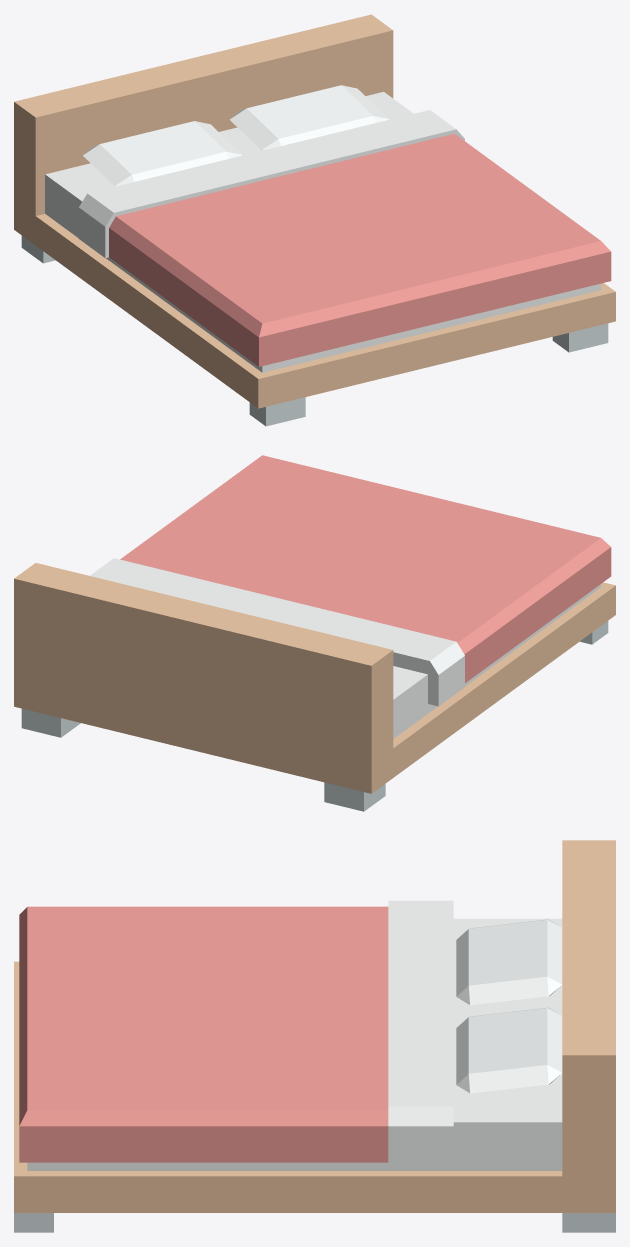
The model's file is bedDouble.gltf.
The picture shows the model from 3 angles, top to bottom: view 1: azimuth 30°, elevation 25°; view 2: azimuth 150°, elevation 25°; view 3: azimuth 270°, elevation 25°; orthographic projection. The views are drawn at different scales.
Parts seen in each view (by area): view 1: cover, bedDouble(Clone), pillowRight, pillowLeft; view 2: bedDouble(Clone), cover; view 3: cover, bedDouble(Clone), pillowRight, pillowLeft.
Part boxes in pixels (x1,y1,x2,y2): cover: (78, 110, 611, 366); bedDouble(Clone): (14, 14, 615, 426); pillowRight: (229, 85, 388, 150); pillowLeft: (83, 121, 241, 186); bedDouble(Clone): (14, 563, 615, 811); cover: (90, 455, 611, 706); cover: (19, 900, 453, 1164); bedDouble(Clone): (14, 840, 615, 1232); pillowRight: (456, 1007, 562, 1093); pillowLeft: (456, 919, 562, 1005).
Size of the model in its own units: 0.956 by 0.375 by 1.12.
